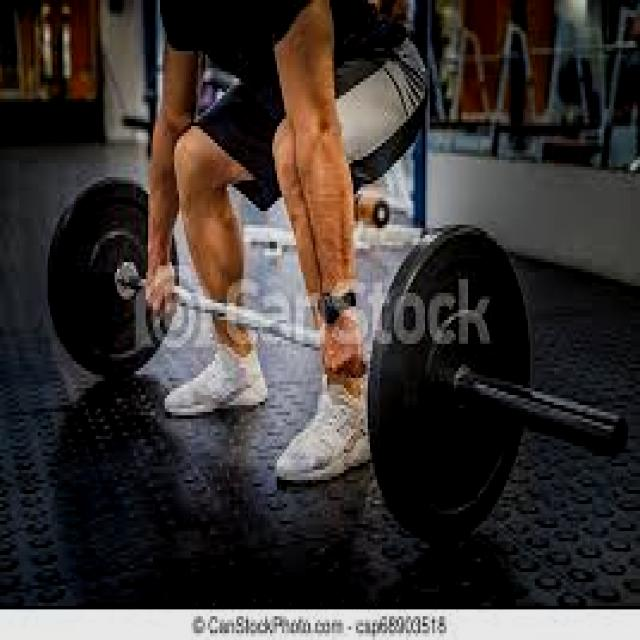barbell_plate_side: (45, 174, 190, 541), (481, 174, 626, 541)
